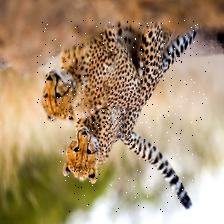Cheetha: (36, 20, 207, 123), (59, 112, 193, 212)
